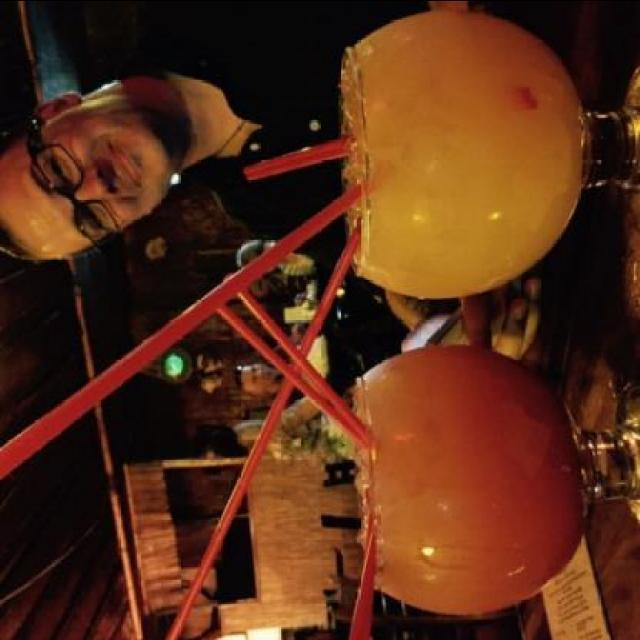Juice: (337, 7, 592, 296), (367, 352, 596, 616)
